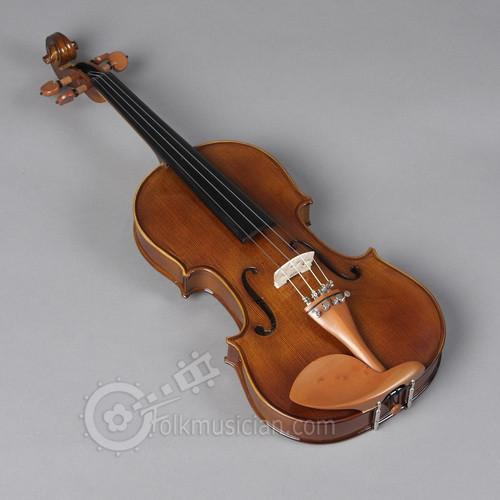Fiddle: (35, 29, 451, 426)
